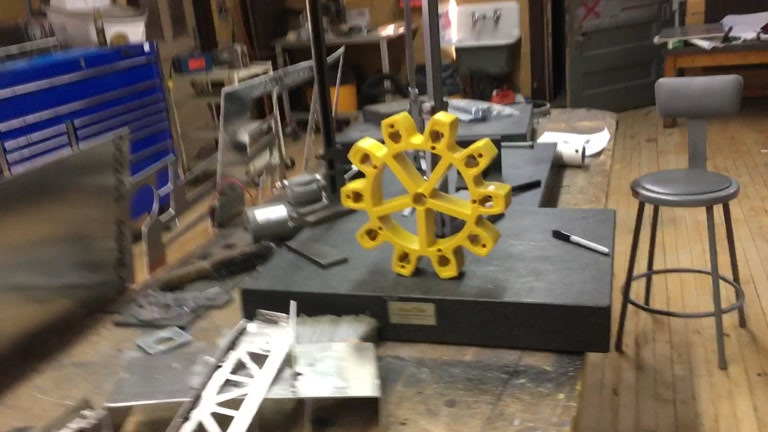gear: (339, 108, 513, 282)
